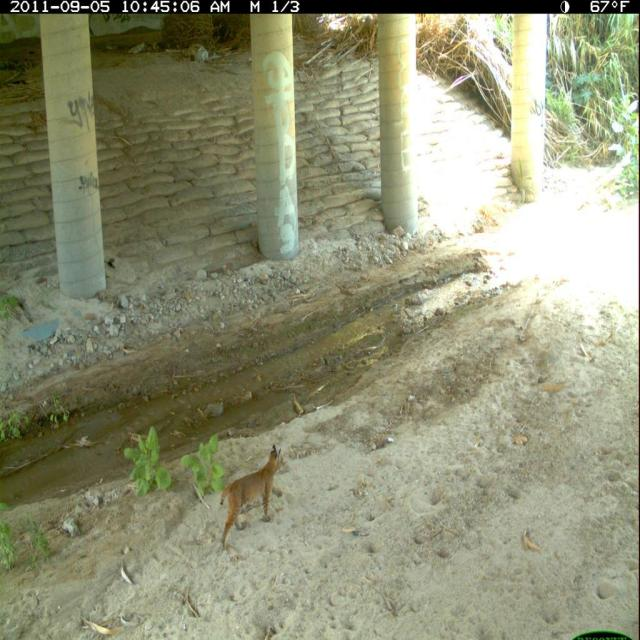bobcat: (217, 441, 289, 555)
